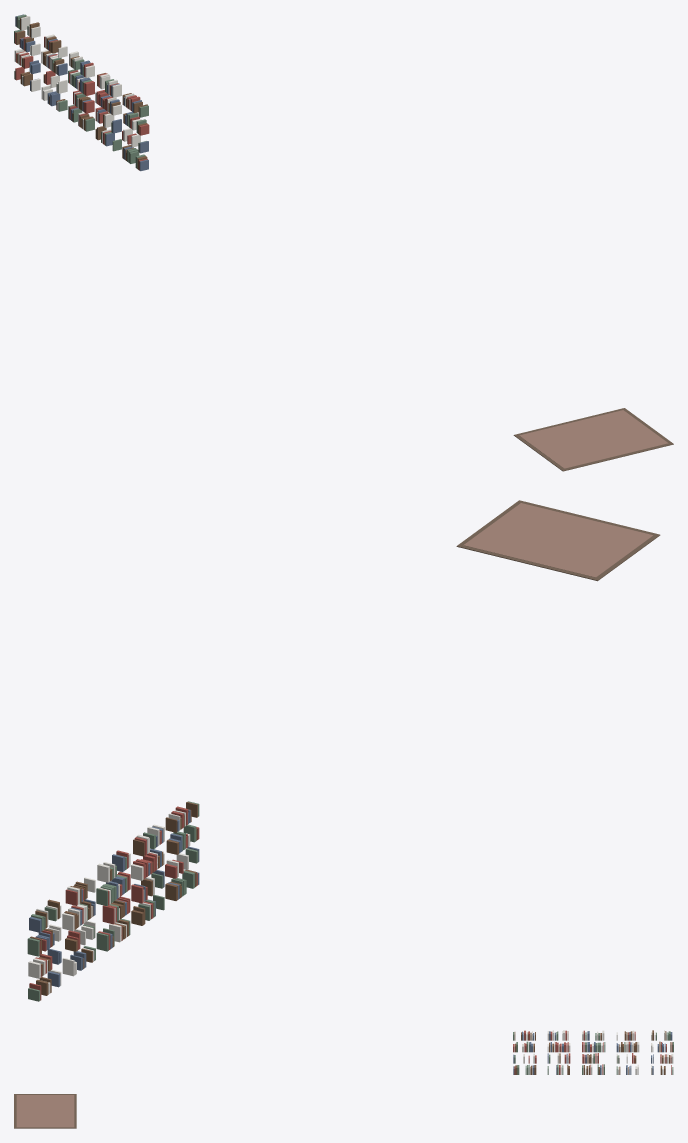
File: fine-s4.glb
The picture shows the model from 3 angles, top to bottom: view 1: azimuth 30°, elevation 25°; view 2: azimuth 150°, elevation 25°; view 3: azimuth 270°, elevation 25°; orthographic projection. The views are drawn at different scales.
Parts seen in each view (by area): view 1: soft-s4; view 2: soft-s4; view 3: soft-s4.
Part boxes in pixels (x1,y1,x2,y2): soft-s4: (14, 14, 673, 471); soft-s4: (27, 500, 660, 1001); soft-s4: (14, 1030, 673, 1128).
Bounding box in the file's own units: 3.3 × 1.93 × 21.06.
